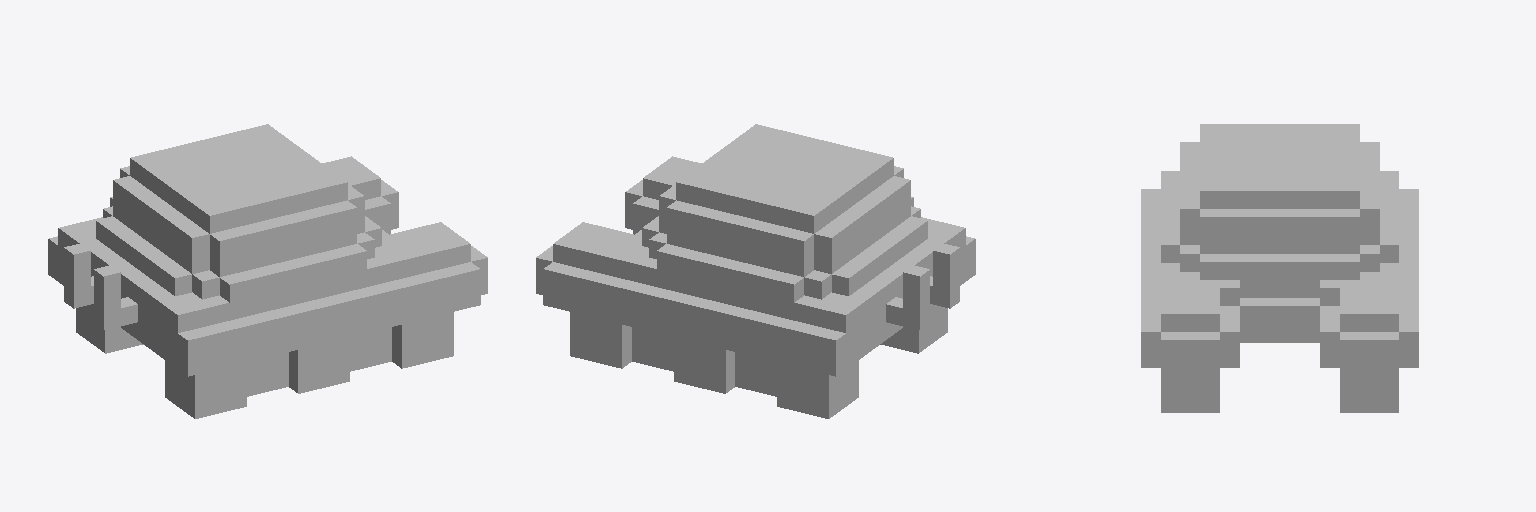
The model's file is body.obj.
3 renders of one model, left to right at view 1: azimuth 30°, elevation 25°; view 2: azimuth 150°, elevation 25°; view 3: azimuth 270°, elevation 25°, orthographic.
Parts seen in each view (by area): view 1: object 1; view 2: object 1; view 3: object 1.
Boxes of the visible parts, <box> form: object 1: <box>48,124,487,418</box>; object 1: <box>536,124,975,418</box>; object 1: <box>1141,124,1418,412</box>.
Bounding box in the file's own units: 2 × 1 × 1.4.